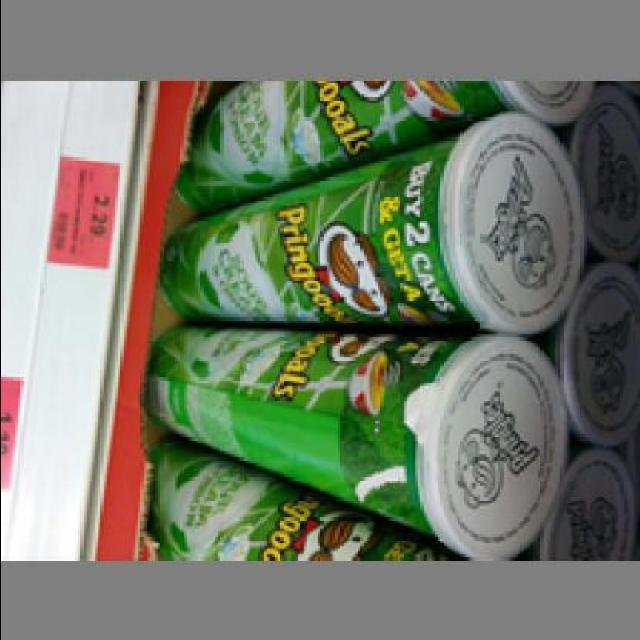Chips: (148, 326, 586, 554), (166, 106, 588, 329)
